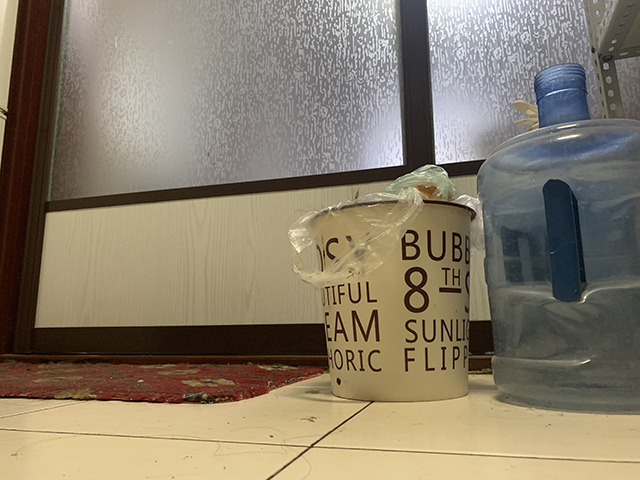carpet: (1, 359, 328, 406)
trashcan: (308, 197, 479, 403)
